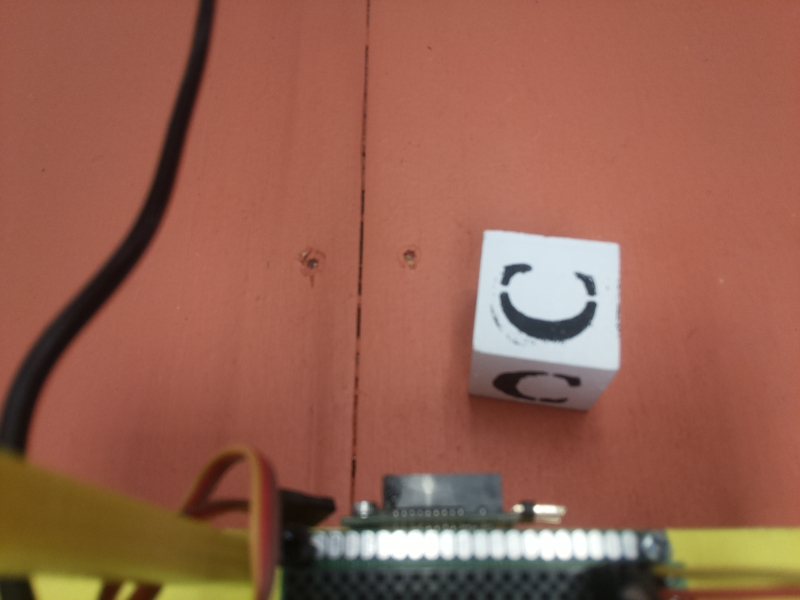blockC: (467, 230, 622, 415)
